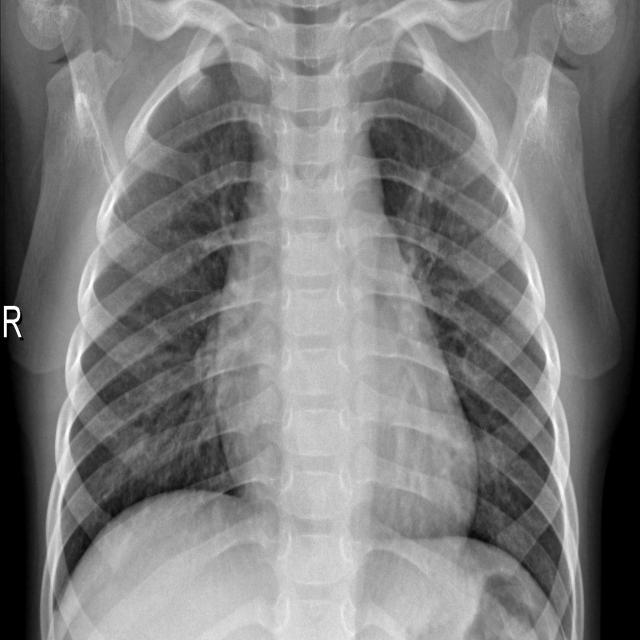no-pneumonia: (45, 63, 271, 618), (364, 61, 578, 617)
